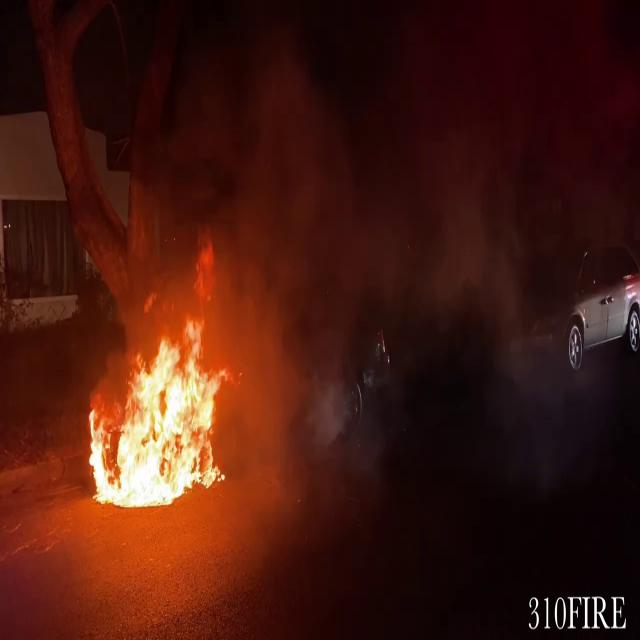Fire: (79, 292, 234, 513)
Smoke: (194, 11, 523, 540)
